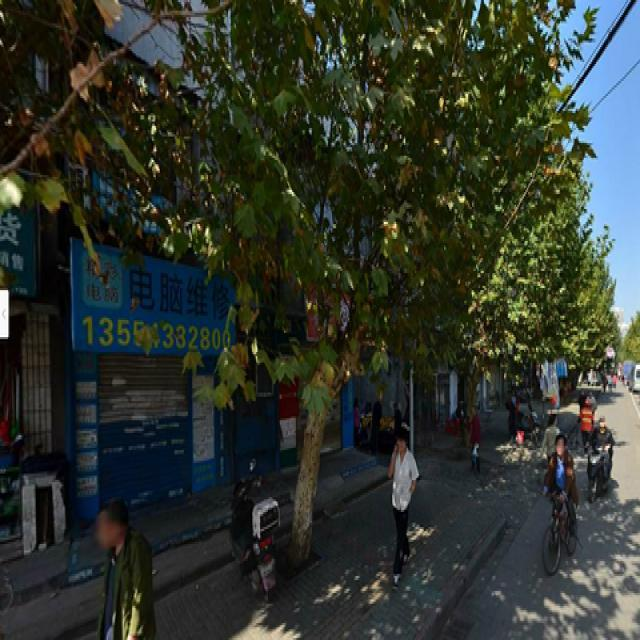meta: (233, 8, 479, 510)
